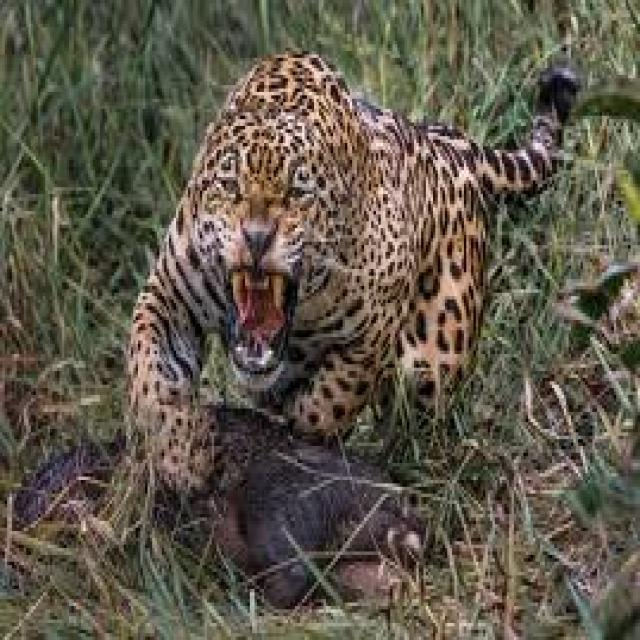Jaguar: (140, 51, 526, 460)
